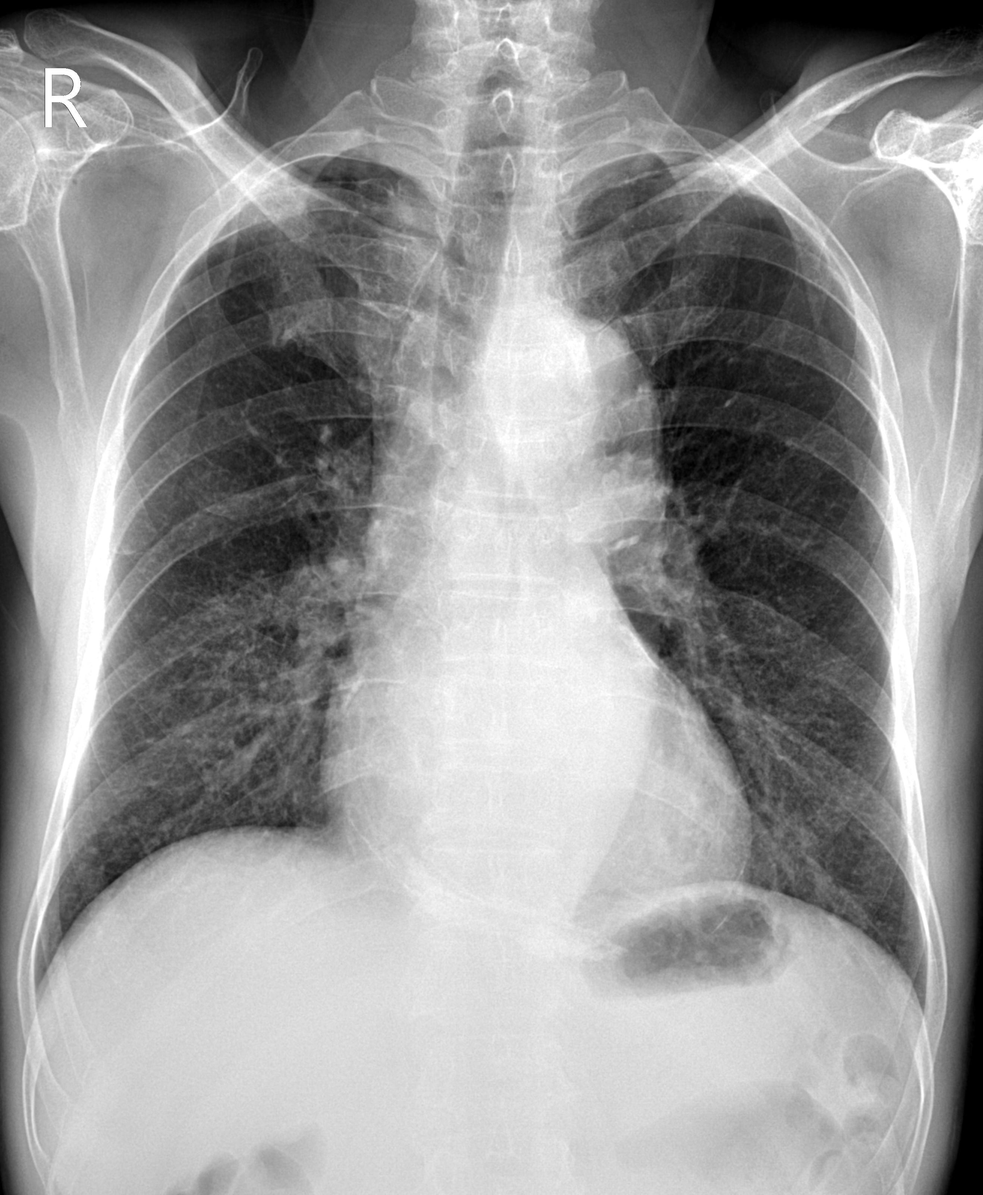Aortic enlargement: (477, 301, 668, 546)
